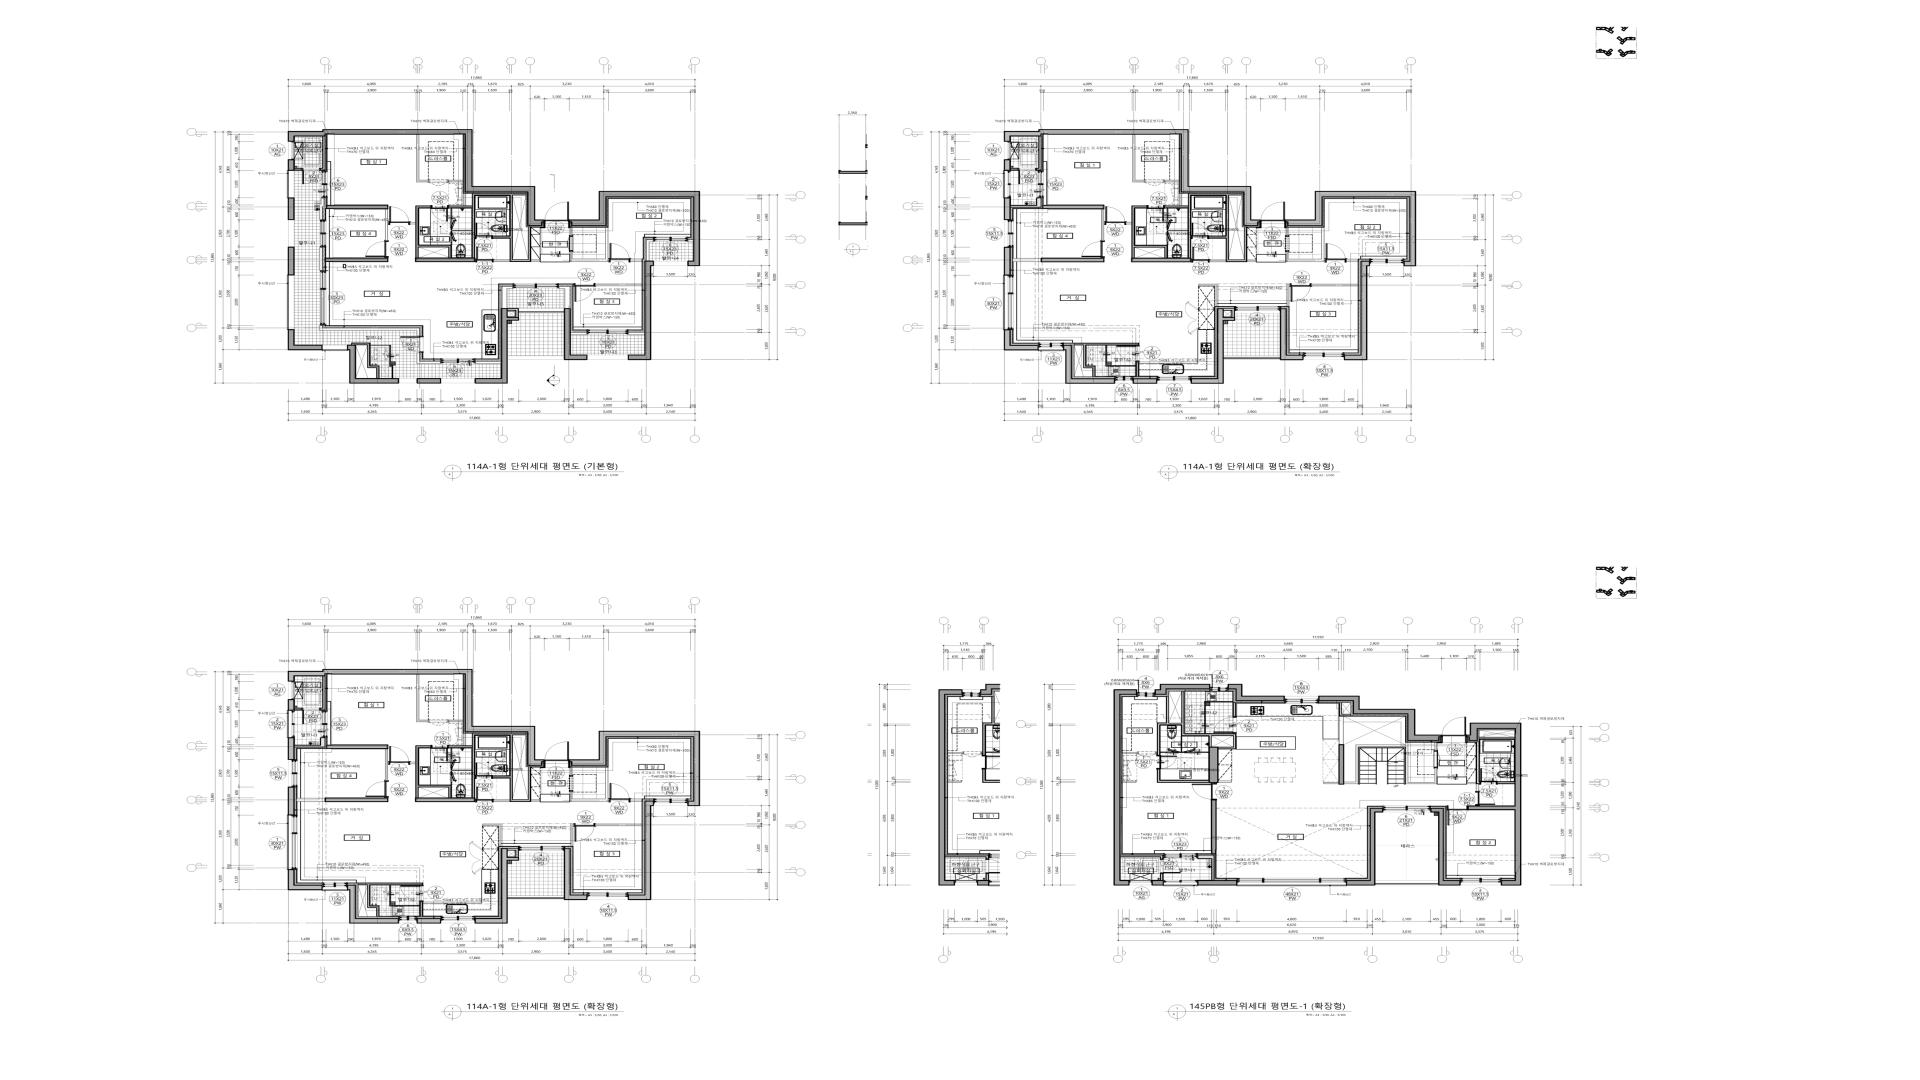door: (544, 742, 569, 768), (1442, 717, 1467, 743), (1260, 203, 1285, 228), (544, 203, 569, 228), (1192, 783, 1217, 801), (1447, 805, 1468, 826), (608, 783, 630, 803), (608, 243, 630, 263), (1325, 243, 1346, 263), (573, 823, 595, 842), (1104, 206, 1126, 225), (1289, 283, 1311, 302), (573, 283, 595, 302), (365, 781, 389, 798), (1081, 241, 1105, 258), (365, 241, 389, 258), (400, 336, 424, 353), (388, 746, 409, 765), (388, 206, 409, 225), (1116, 346, 1140, 362), (400, 886, 423, 902), (1213, 718, 1237, 733), (1147, 205, 1165, 222), (1480, 768, 1498, 785), (431, 205, 449, 222), (1475, 791, 1495, 806), (1156, 755, 1177, 769), (1160, 859, 1181, 873), (431, 745, 448, 762), (1018, 168, 1036, 184), (475, 763, 493, 779), (302, 708, 320, 724), (475, 787, 493, 803), (1191, 247, 1209, 263), (475, 247, 493, 263), (475, 223, 493, 239), (302, 168, 320, 184), (1192, 223, 1209, 239), (428, 719, 448, 726), (428, 180, 449, 186), (1145, 180, 1165, 186), (1138, 752, 1156, 757)
wall: (1004, 129, 1260, 226), (288, 669, 544, 766), (288, 129, 544, 226), (569, 731, 700, 806), (1285, 191, 1416, 266), (569, 191, 700, 266), (1467, 723, 1522, 886), (448, 733, 540, 802), (449, 193, 540, 262), (1165, 193, 1256, 262), (1318, 696, 1442, 741), (1157, 691, 1237, 755), (1114, 689, 1137, 886), (1344, 743, 1437, 784), (475, 308, 519, 384), (475, 848, 519, 924), (1191, 309, 1235, 384), (1346, 808, 1384, 886), (1344, 261, 1370, 360), (628, 801, 654, 900), (628, 261, 654, 360), (1430, 808, 1461, 886), (409, 745, 452, 798), (1074, 343, 1139, 377), (358, 883, 423, 917), (1126, 206, 1168, 258), (410, 206, 452, 257), (1063, 345, 1115, 384), (347, 885, 399, 924), (347, 345, 399, 384), (1286, 228, 1325, 262), (570, 768, 608, 802), (570, 228, 608, 262), (564, 848, 588, 900), (1280, 309, 1304, 360), (564, 308, 587, 360), (319, 325, 420, 336), (351, 343, 379, 378), (1228, 684, 1285, 701), (287, 329, 322, 351), (288, 869, 322, 891), (1004, 330, 1039, 351), (1157, 769, 1208, 783), (1467, 742, 1480, 791), (1132, 135, 1145, 182), (1155, 684, 1210, 695), (416, 675, 428, 722), (416, 135, 428, 182), (1197, 855, 1215, 880), (482, 824, 501, 846), (1208, 747, 1219, 783), (1199, 284, 1217, 306), (1211, 801, 1217, 854), (326, 744, 388, 749), (327, 205, 388, 210), (1011, 198, 1041, 208), (416, 353, 441, 364), (295, 738, 325, 747), (501, 286, 513, 308), (1041, 258, 1105, 262), (324, 798, 388, 802), (1042, 205, 1104, 209), (326, 258, 388, 262), (1197, 880, 1238, 886), (559, 286, 570, 308), (1131, 258, 1191, 262), (415, 798, 475, 802), (415, 258, 475, 262), (508, 896, 564, 900), (1224, 356, 1280, 360), (1339, 744, 1344, 785), (1036, 137, 1042, 171), (1004, 247, 1011, 276), (287, 787, 294, 816), (288, 247, 295, 276), (320, 676, 325, 711), (320, 137, 325, 171), (1121, 855, 1163, 859), (1004, 198, 1011, 220), (288, 738, 295, 760), (288, 198, 295, 220), (416, 918, 441, 924), (646, 240, 653, 261), (1133, 378, 1157, 384), (417, 378, 441, 384), (1339, 717, 1344, 744), (1013, 258, 1041, 262), (319, 198, 324, 220), (1479, 737, 1515, 740), (297, 798, 324, 802), (508, 848, 519, 857), (508, 308, 519, 317), (1101, 209, 1104, 241), (385, 749, 388, 781), (319, 247, 323, 271), (595, 824, 642, 826), (1311, 284, 1358, 286), (595, 284, 642, 286), (385, 210, 388, 241), (1224, 309, 1235, 317), (1004, 159, 1011, 171), (288, 699, 295, 711), (288, 159, 295, 171), (475, 361, 501, 364), (1152, 880, 1164, 886), (570, 824, 573, 846), (1233, 702, 1237, 718), (419, 902, 423, 917), (1135, 362, 1139, 377), (1498, 781, 1515, 784), (571, 332, 587, 335), (1287, 284, 1289, 306), (630, 259, 642, 262), (630, 799, 642, 802), (1346, 259, 1358, 262), (1324, 782, 1339, 784), (1123, 752, 1138, 754), (449, 180, 463, 182), (1165, 180, 1179, 182), (1160, 873, 1164, 880), (1122, 781, 1136, 783), (449, 720, 463, 722), (1219, 781, 1232, 783), (1286, 228, 1289, 236), (1011, 168, 1018, 171), (295, 708, 302, 711), (295, 168, 302, 171), (570, 767, 572, 776), (570, 228, 572, 236), (1435, 743, 1437, 751), (688, 240, 693, 242)
window: (1238, 878, 1346, 886), (1003, 276, 1014, 329), (287, 816, 297, 869), (287, 276, 294, 329), (587, 892, 628, 900), (320, 271, 326, 325), (1304, 352, 1344, 360), (519, 846, 564, 853), (1235, 306, 1280, 313), (1461, 878, 1501, 885), (513, 283, 559, 289), (1384, 806, 1430, 812), (1285, 696, 1319, 704), (1157, 376, 1191, 384), (1004, 220, 1014, 247), (654, 798, 687, 806), (587, 329, 628, 335), (288, 760, 297, 787), (1370, 259, 1404, 266), (441, 916, 475, 923), (508, 356, 564, 360), (1036, 171, 1044, 198), (1003, 171, 1011, 198), (286, 171, 294, 198), (287, 711, 295, 737), (441, 358, 475, 364), (587, 355, 627, 360), (1164, 880, 1197, 886), (1039, 343, 1063, 351), (323, 883, 347, 891), (320, 711, 327, 738), (519, 309, 564, 313), (653, 237, 688, 242), (1164, 853, 1197, 858), (654, 261, 687, 266), (288, 220, 294, 247), (321, 171, 327, 198), (320, 220, 326, 247), (322, 345, 347, 351), (1210, 684, 1228, 692), (441, 379, 474, 383), (1115, 376, 1133, 383), (1137, 690, 1155, 697), (399, 916, 416, 923), (1130, 880, 1151, 885), (288, 682, 294, 699), (1004, 142, 1010, 159), (288, 142, 294, 159), (399, 379, 416, 383)
